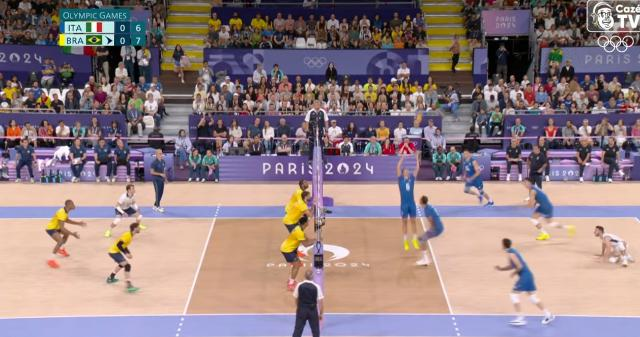Levantador: (107, 224, 141, 292), (398, 155, 418, 247)
Libero: (592, 227, 634, 267), (112, 183, 142, 229)
bola: (411, 113, 425, 125)
